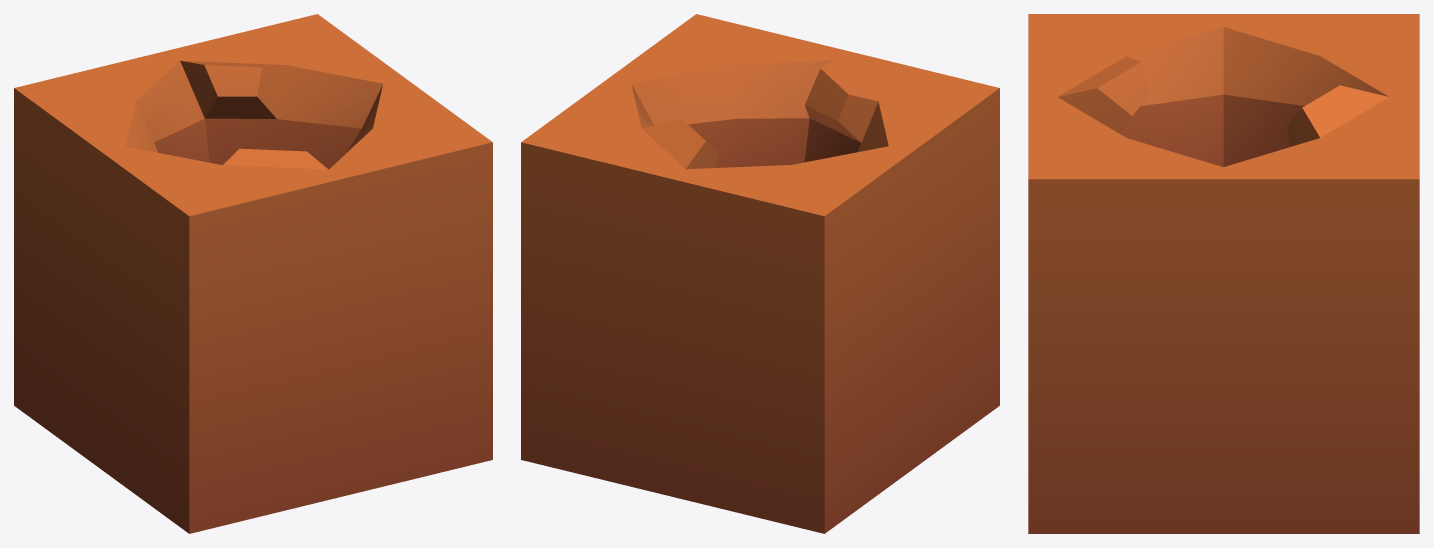
The model's file is terrain_mining.glb.
3 views of the same model, side by side, from view 1: azimuth 30°, elevation 25°; view 2: azimuth 150°, elevation 25°; view 3: azimuth 270°, elevation 25° (orthographic). The views are drawn at different scales.
Visible parts, largest first — view 1: terrain_mining; view 2: terrain_mining; view 3: terrain_mining.
Part boxes in pixels (x1=…): terrain_mining: x1=14, y1=14, x2=492, y2=533; terrain_mining: x1=521, y1=14, x2=999, y2=533; terrain_mining: x1=1028, y1=14, x2=1419, y2=533.
Size of the model in its own units: 6 by 6.22 by 6.
1 material, 1 textured.
